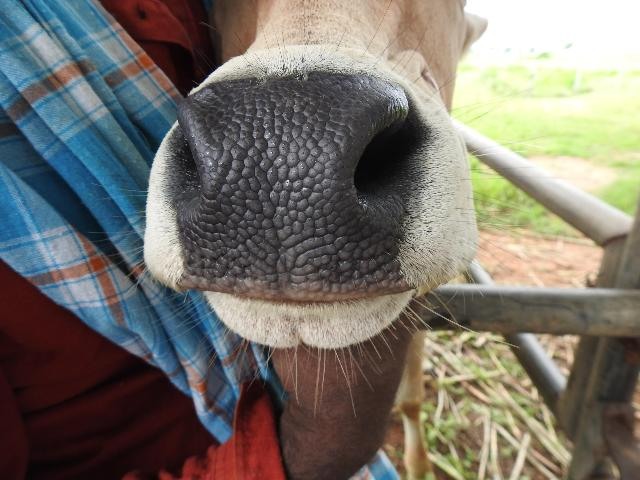Muzzle: (193, 91, 357, 279)
